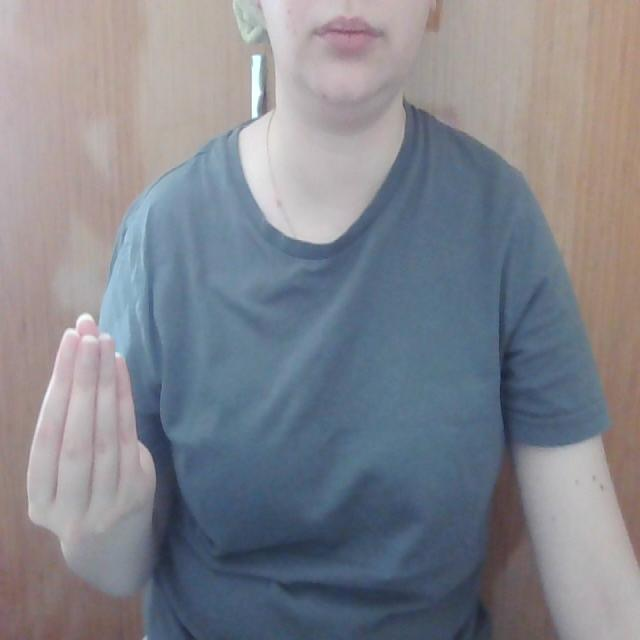iyi: (22, 310, 149, 550)
